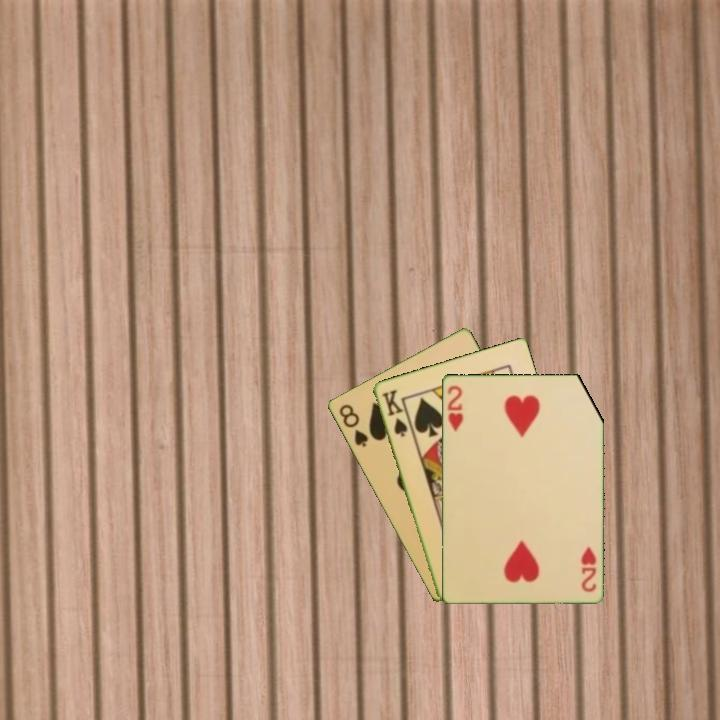2h: (443, 382, 466, 434), (577, 543, 598, 594)
8s: (335, 400, 371, 450)
Ks: (377, 386, 410, 439)
